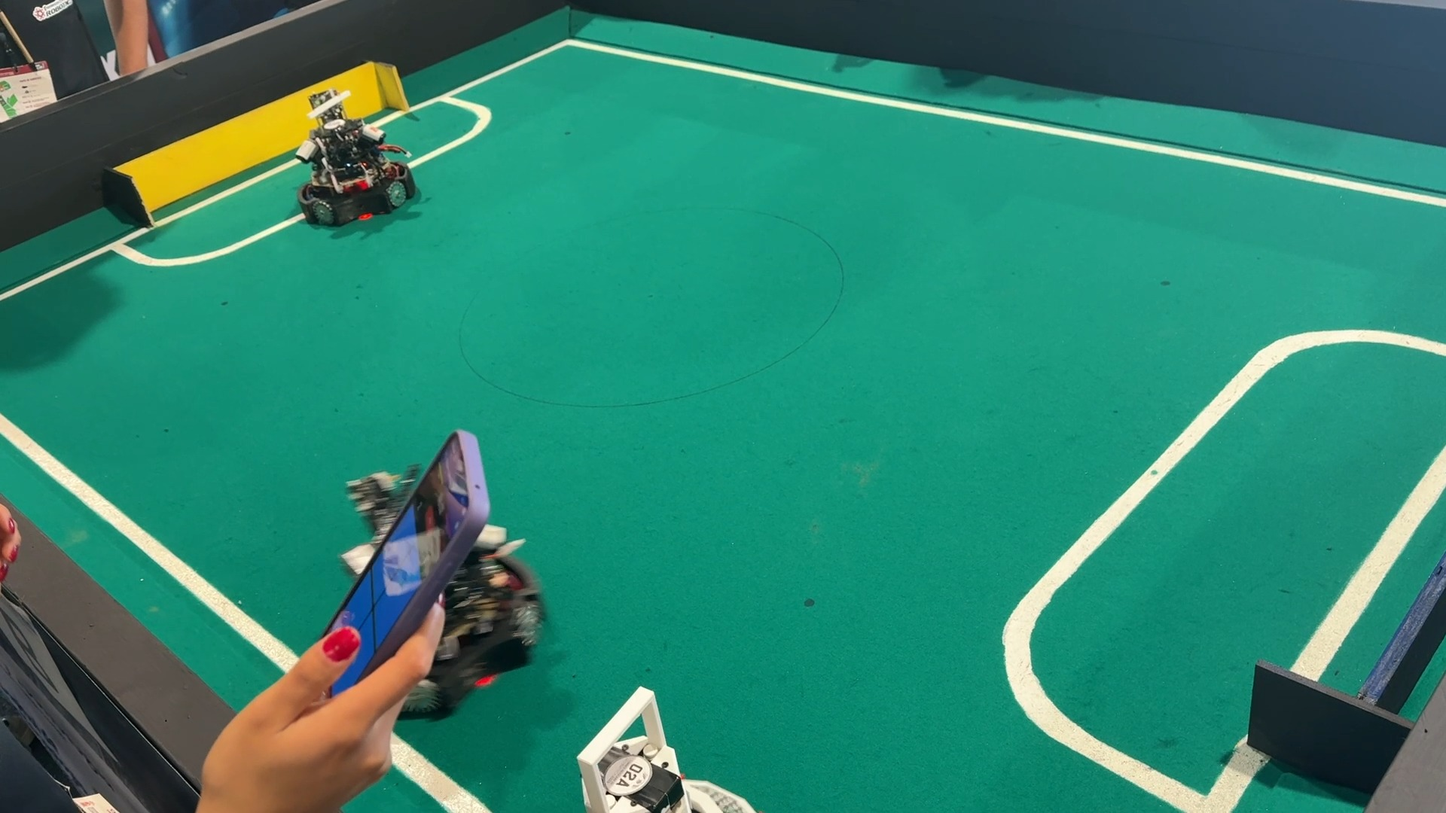Robot: (270, 419, 559, 716), (553, 698, 803, 810), (275, 80, 433, 251)
